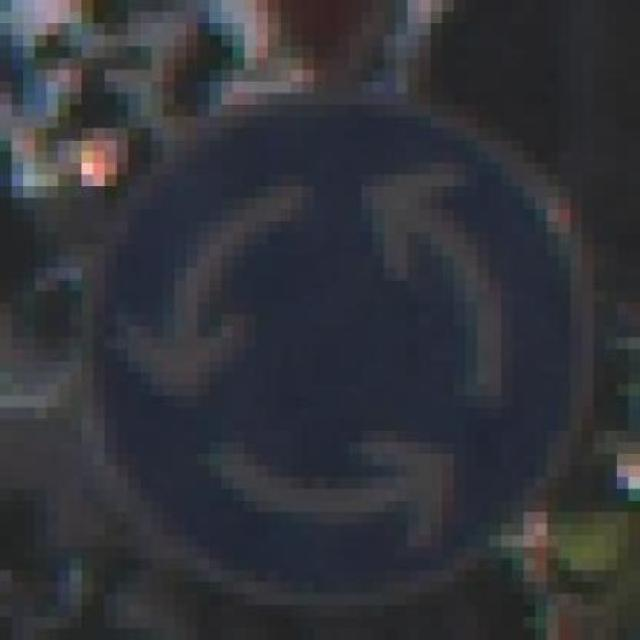Round-About: (47, 81, 628, 617)
